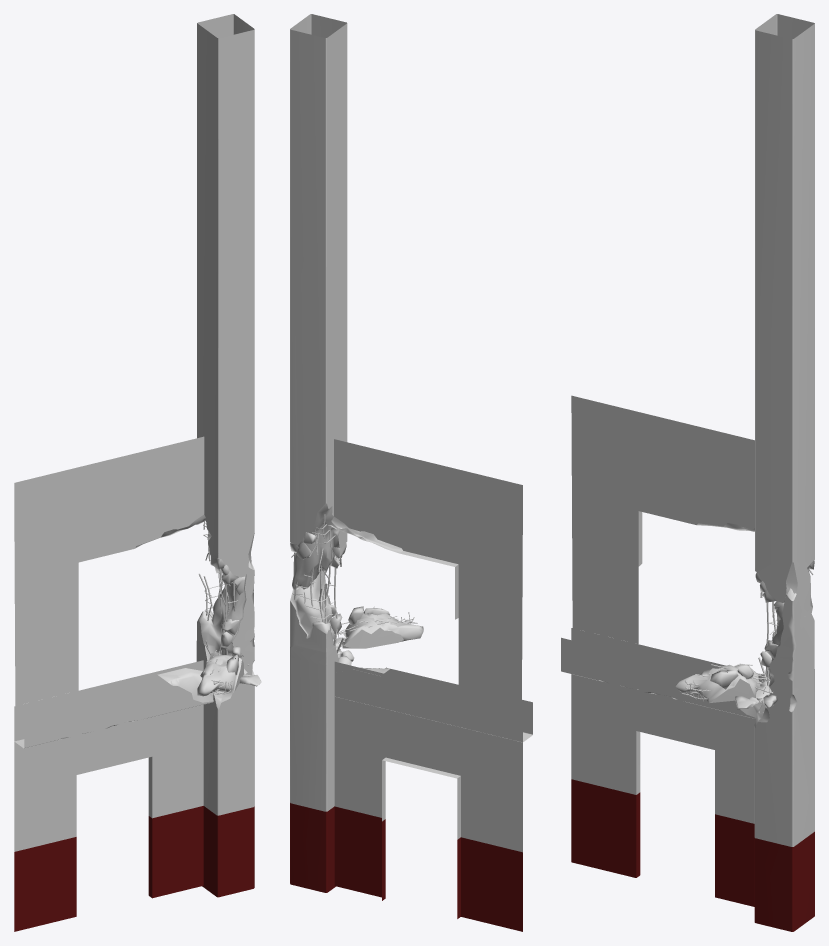
The model's file is SM_H_Building_Tide_Jail_A_04_Damaged_ATLAS.fbx.
The picture shows the model from 3 angles, left to right: view 1: azimuth 30°, elevation 25°; view 2: azimuth 150°, elevation 25°; view 3: azimuth 330°, elevation 25°; orthographic projection. The views are drawn at different scales.
Visible parts, largest first — view 1: SM_H_Building_Tide_Jail_A_04_Damaged_ATLAS; view 2: SM_H_Building_Tide_Jail_A_04_Damaged_ATLAS; view 3: SM_H_Building_Tide_Jail_A_04_Damaged_ATLAS.
Boxes of the visible parts, box(x1,y1,x2,y2) form: SM_H_Building_Tide_Jail_A_04_Damaged_ATLAS: box(14, 14, 261, 931); SM_H_Building_Tide_Jail_A_04_Damaged_ATLAS: box(290, 14, 532, 931); SM_H_Building_Tide_Jail_A_04_Damaged_ATLAS: box(561, 14, 814, 931).
Size of the model in its own units: 562 by 251 by 2030.
